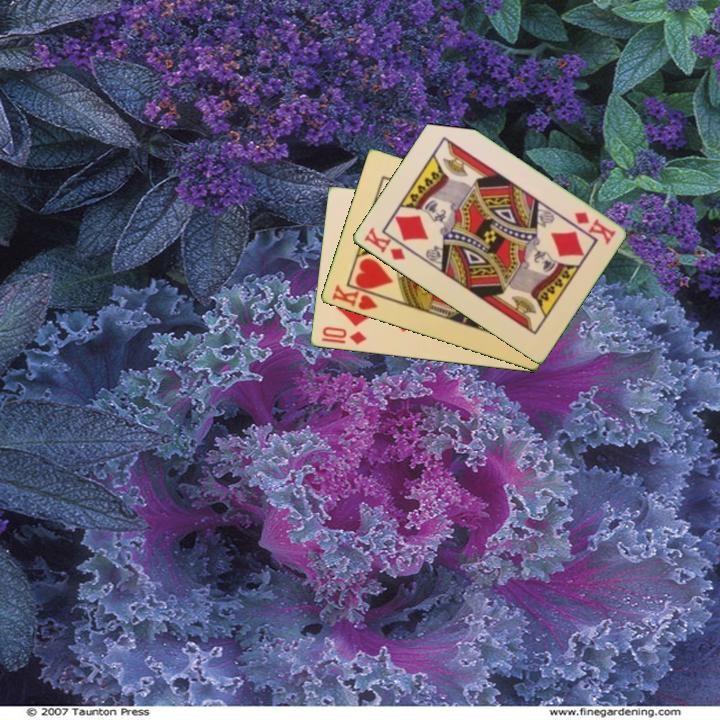10d: (318, 323, 369, 348)
Kd: (360, 224, 408, 263), (570, 208, 618, 247)
Kh: (328, 281, 386, 313)
